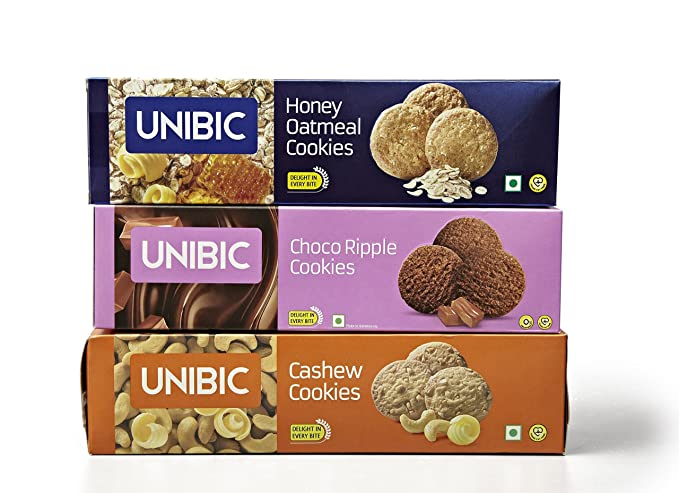VEG: (504, 172, 524, 193), (504, 423, 525, 442), (331, 313, 347, 329)
